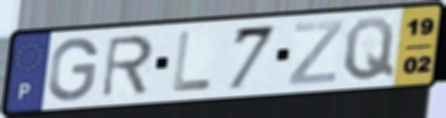7: (226, 25, 279, 92)
G: (45, 35, 101, 103)
L: (169, 29, 214, 95)
Q: (341, 15, 396, 83)
R: (99, 32, 157, 100)
Z: (286, 18, 346, 87)
